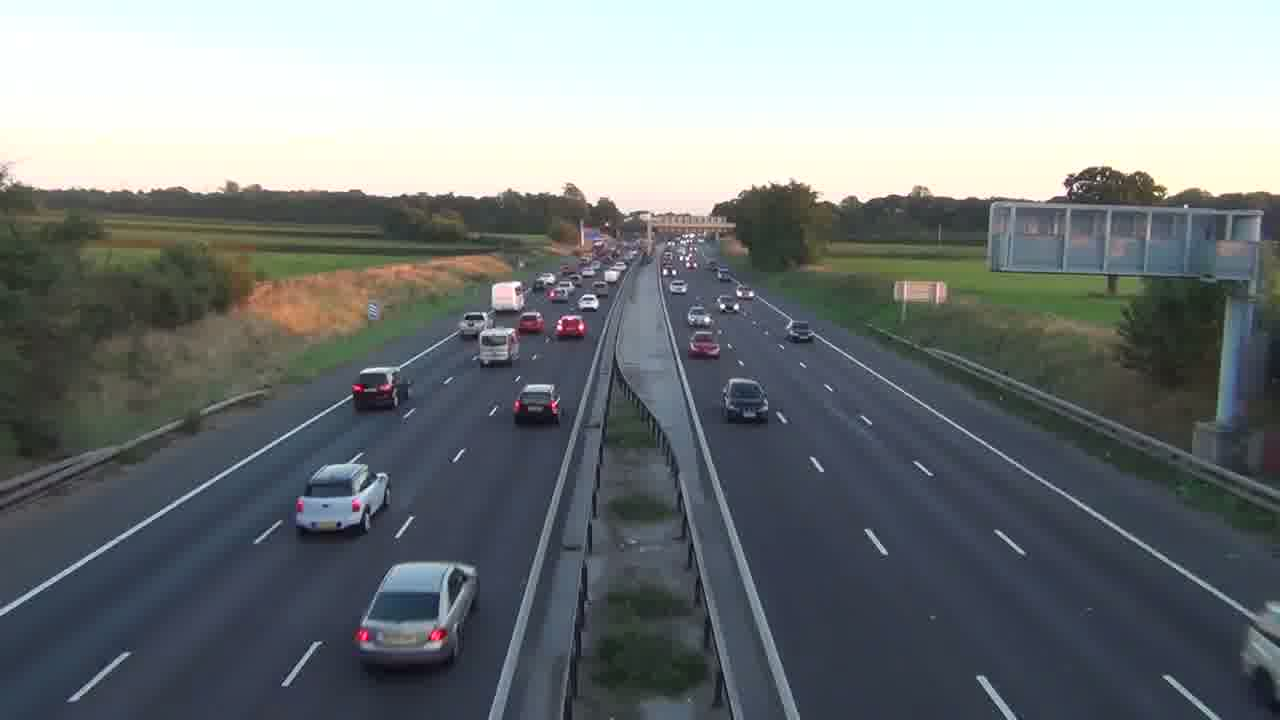car: (351, 560, 480, 672), (294, 461, 391, 535), (351, 365, 408, 410), (722, 376, 770, 423), (513, 383, 561, 424), (688, 332, 720, 360), (553, 314, 587, 340), (517, 310, 546, 335), (786, 320, 814, 343), (686, 305, 713, 328)
truck: (492, 281, 526, 311)
